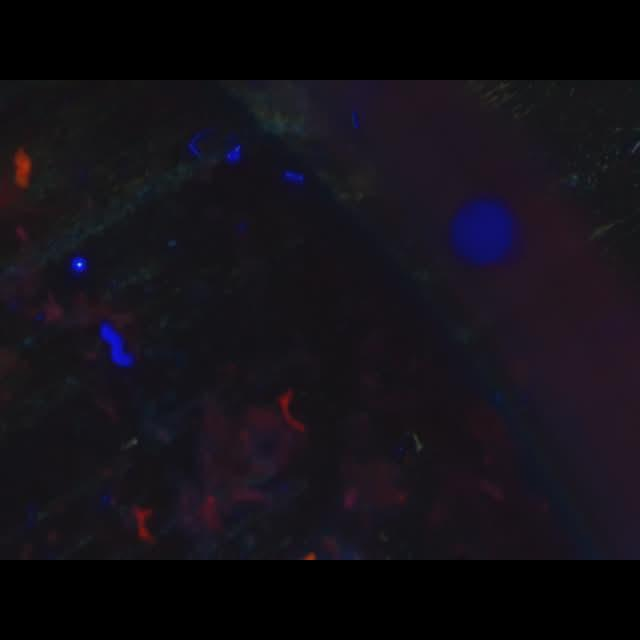Fragment: (14, 146, 32, 190)
